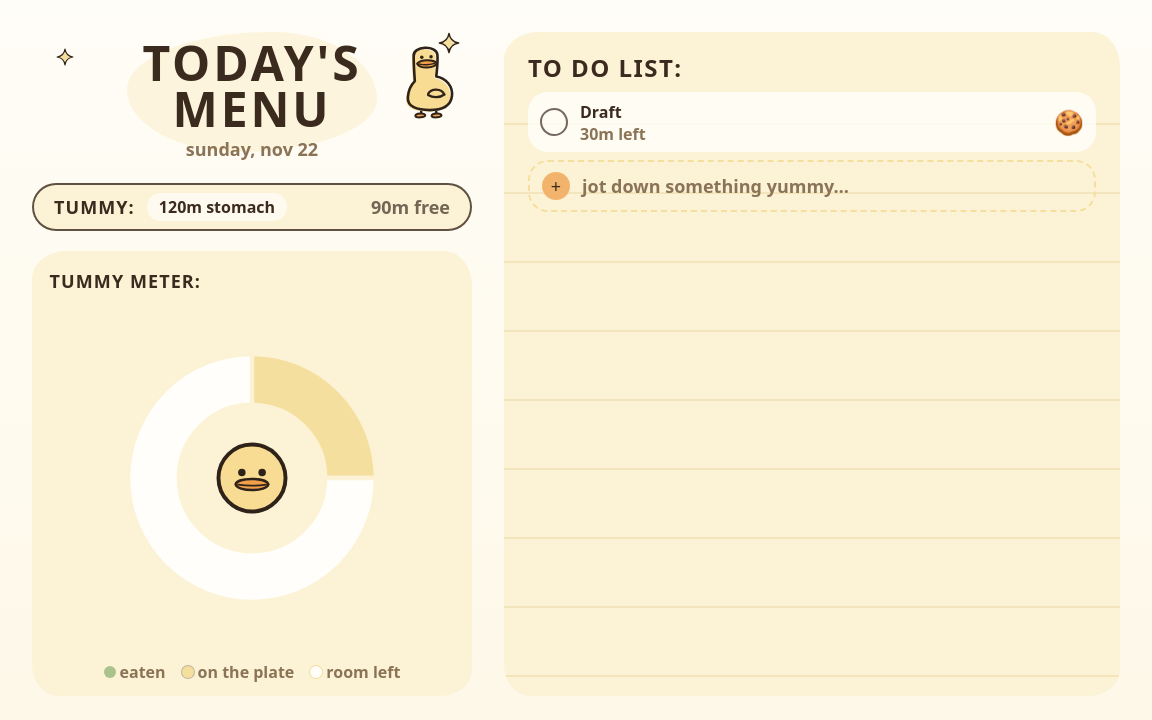
Test: Edit/delete a task from Today › edits a task's title, estimate, and tags via the edit sheet
Click the text "Draft".
click(601, 112)  # box x1=580 y1=100 x2=622 y2=124
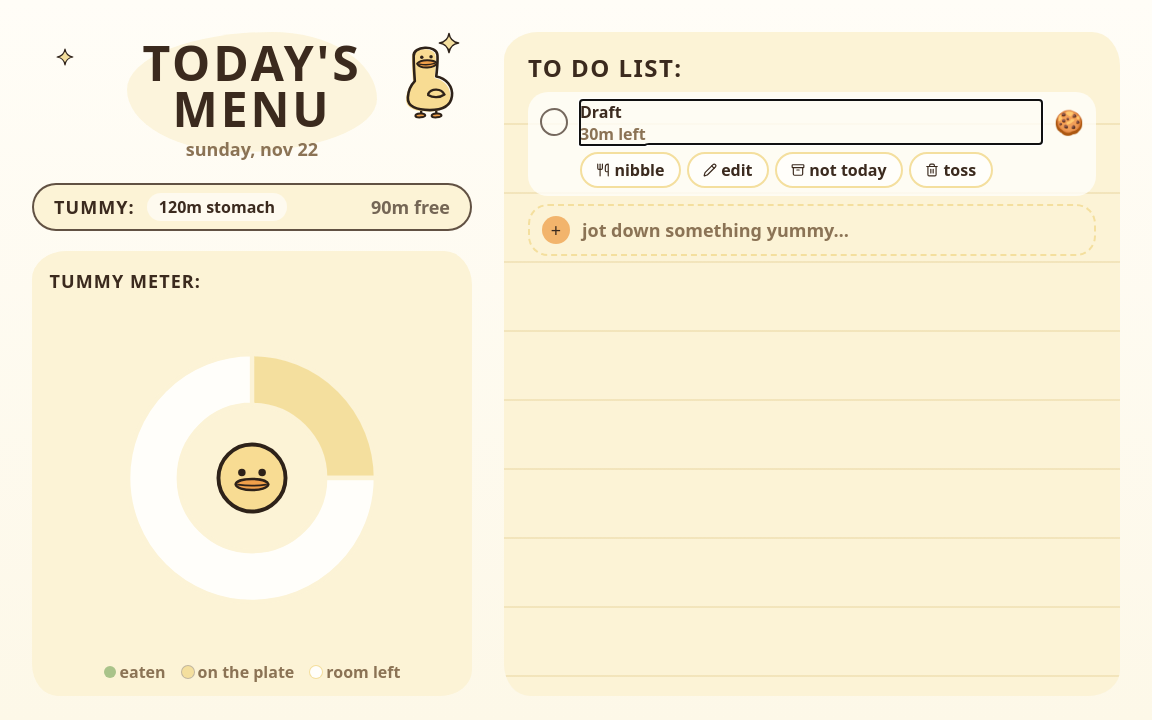
Click the button with aria-label "edit draft".
click(728, 170)  # box x1=687 y1=152 x2=769 y2=188
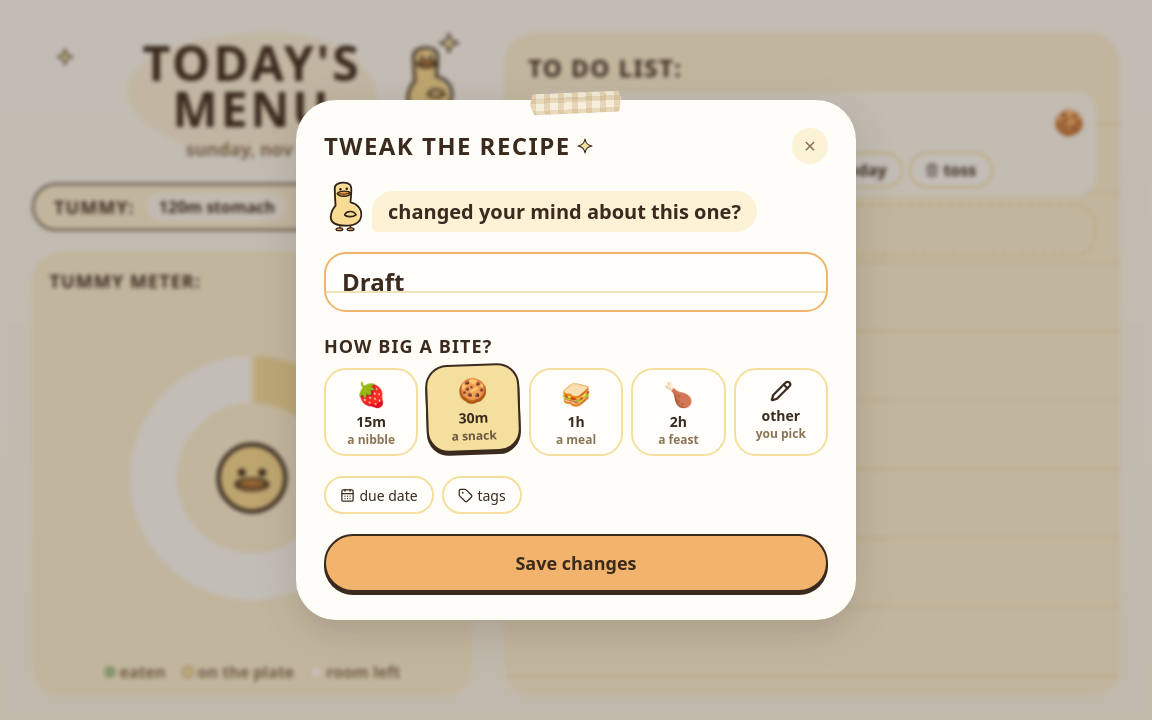
Replace the text in the field showing "Draft" with "Final draft" at (576, 282), box x1=324 y1=252 x2=828 y2=312
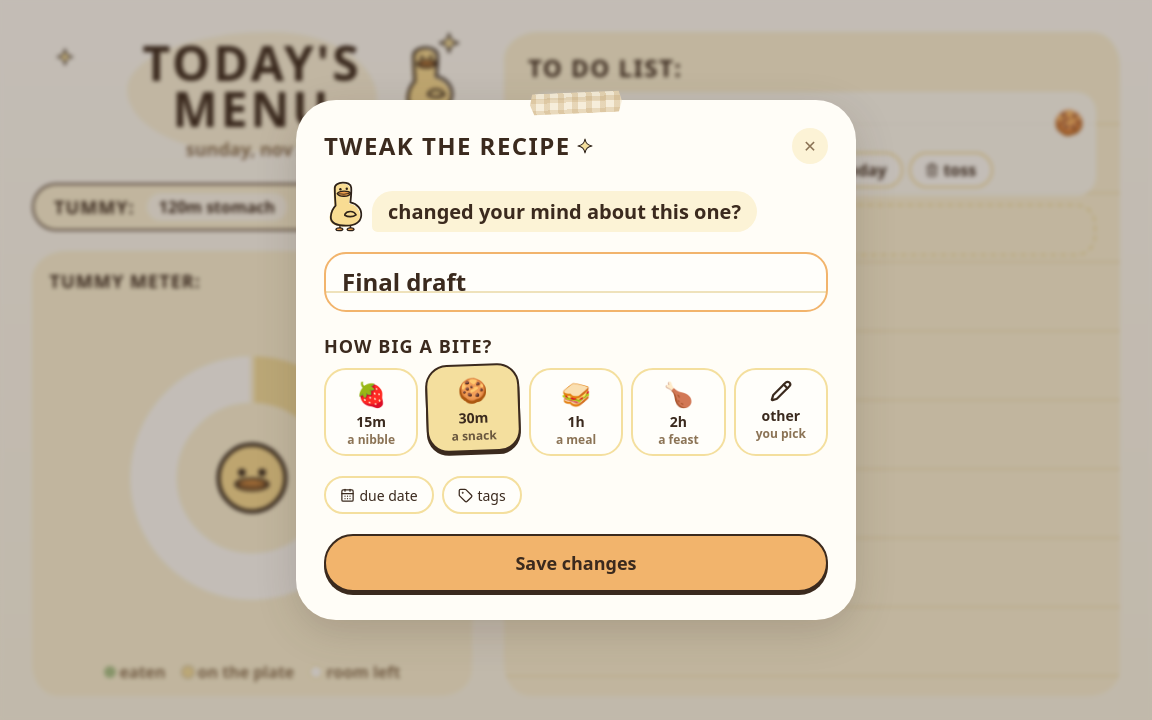
Click the button "tags".
click(482, 495)  # box x1=442 y1=476 x2=522 y2=514
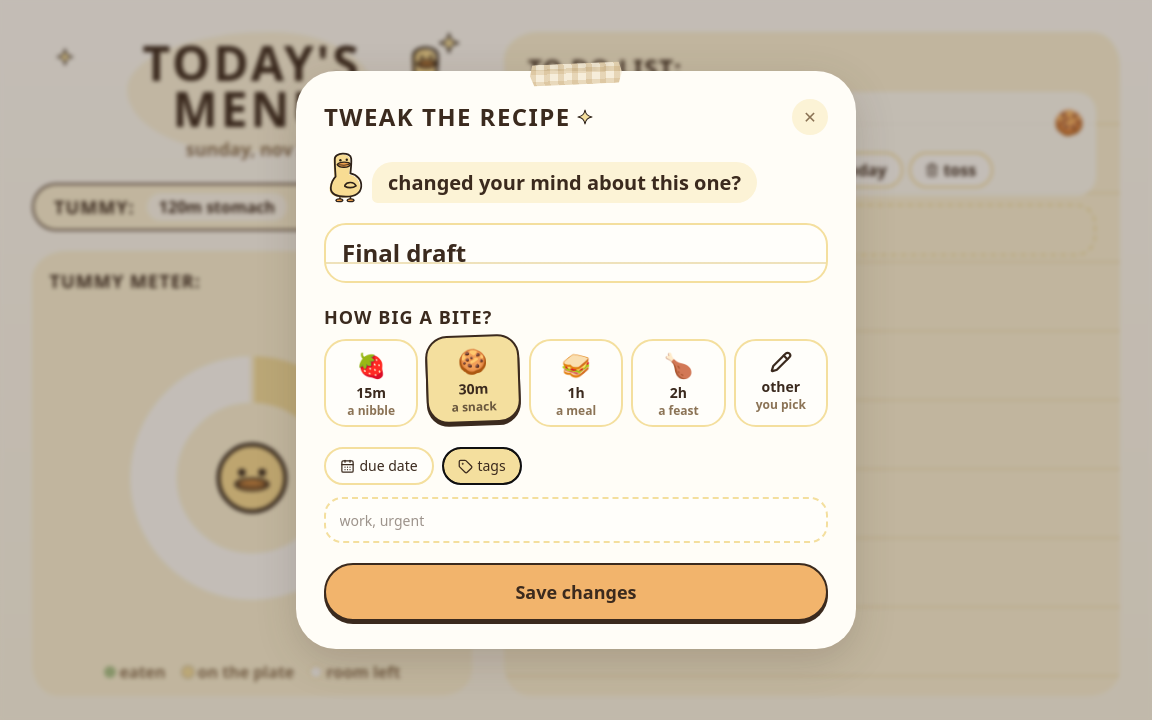
Type "writing" into the field with placeholder "work, urgent".
click(576, 521); type("writing")  # box x1=340 y1=509 x2=812 y2=533
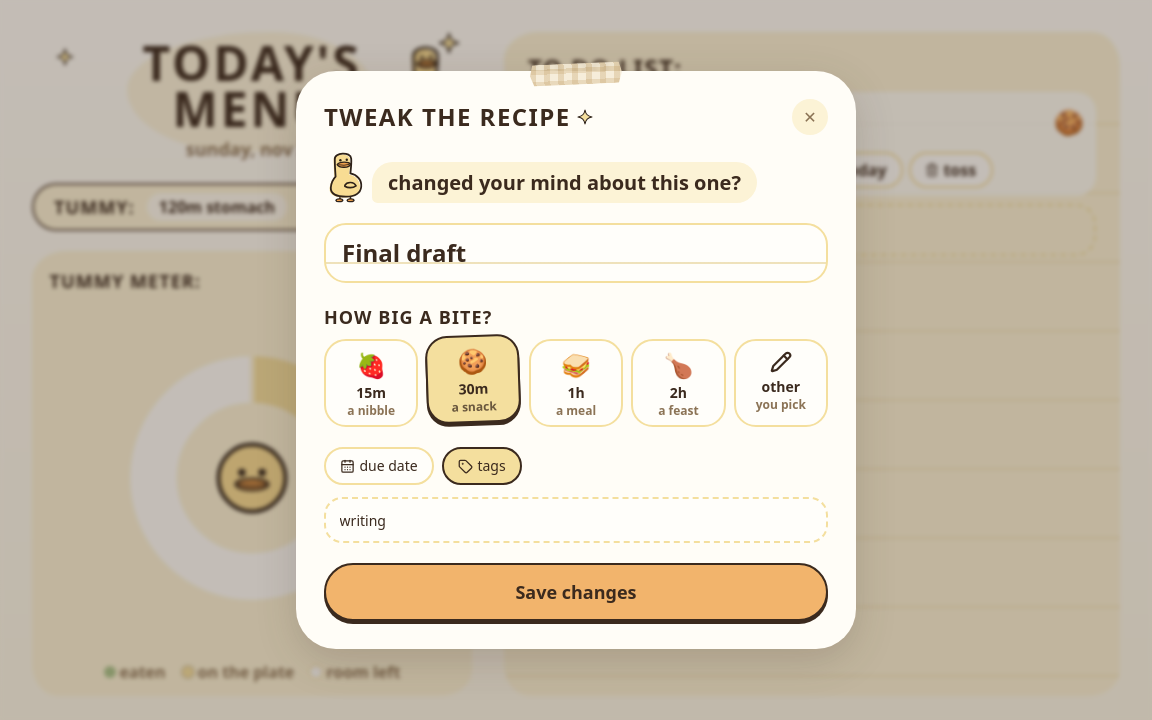
Click the button "Save changes".
click(576, 592)  # box x1=324 y1=563 x2=828 y2=621
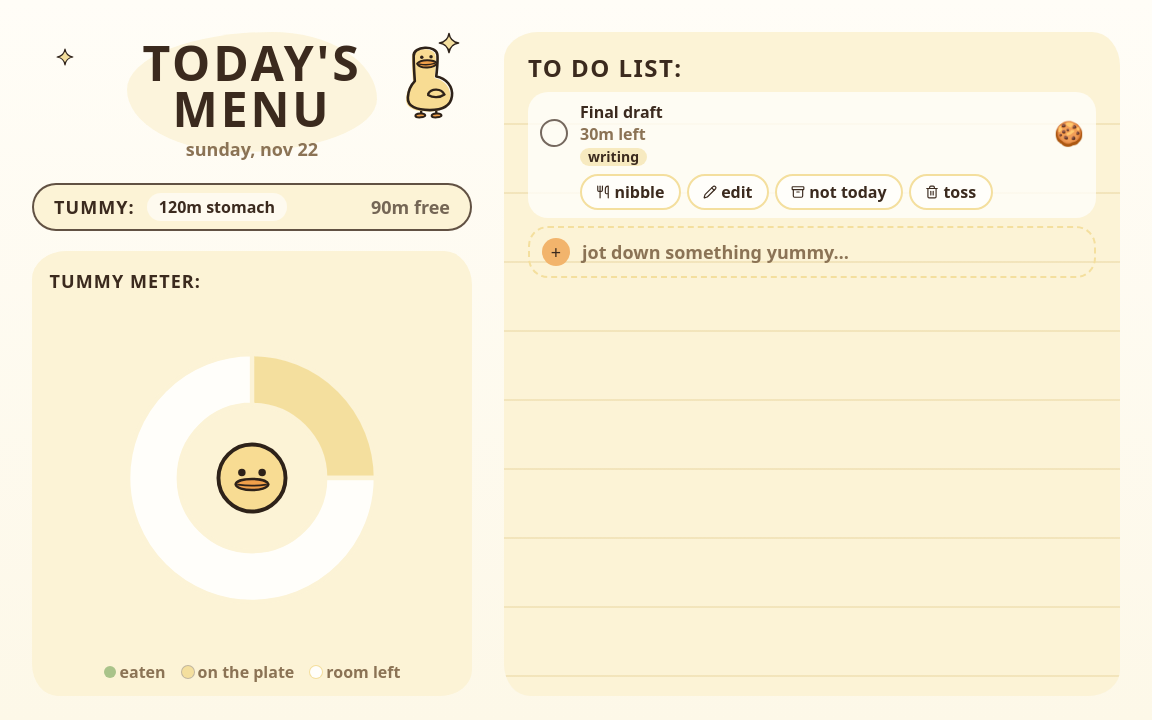
expect the text "Final draft" is shown: met, box x1=580 y1=100 x2=663 y2=124
expect the text "writing" is shown: met, box x1=580 y1=148 x2=647 y2=166
